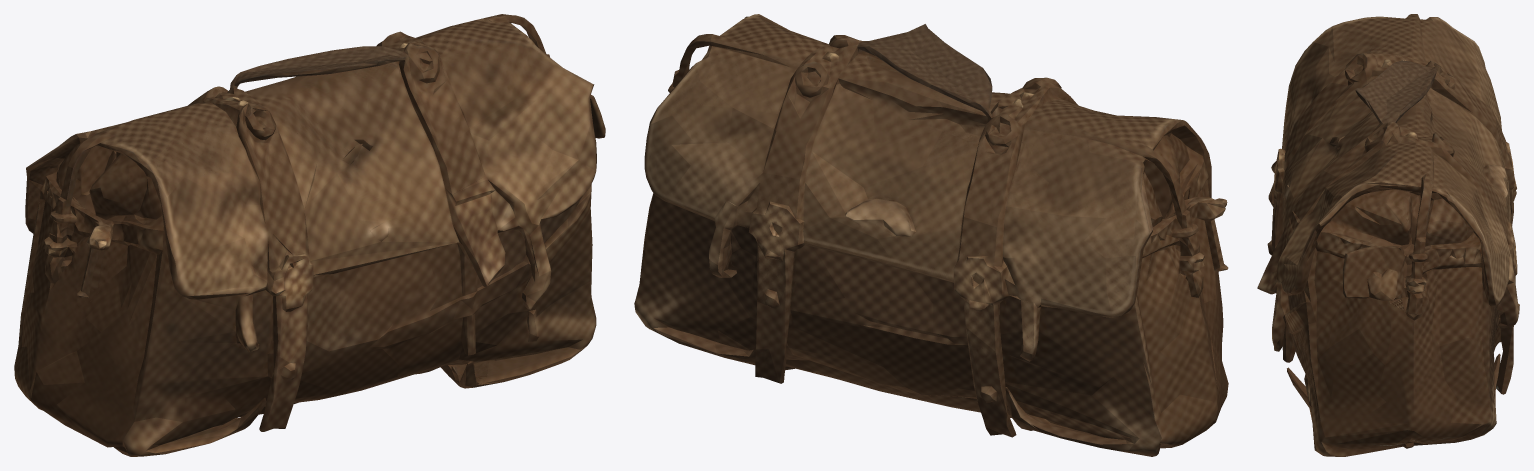
Rendered from leather-holdall.glb.
The picture shows the model from 3 angles, left to right: view 1: azimuth 30°, elevation 25°; view 2: azimuth 150°, elevation 25°; view 3: azimuth 270°, elevation 25°; orthographic projection. The views are drawn at different scales.
Visible parts, largest first — view 1: Mesh_0; view 2: Mesh_0; view 3: Mesh_0.
Part boxes in pixels (bbox=[...]): Mesh_0: bbox=[14, 14, 605, 456]; Mesh_0: bbox=[634, 14, 1228, 456]; Mesh_0: bbox=[1257, 14, 1519, 456].
Size of the model in its own units: 0.721 by 0.4198 by 0.3361.
Materials: 1 (1 with a texture image).
